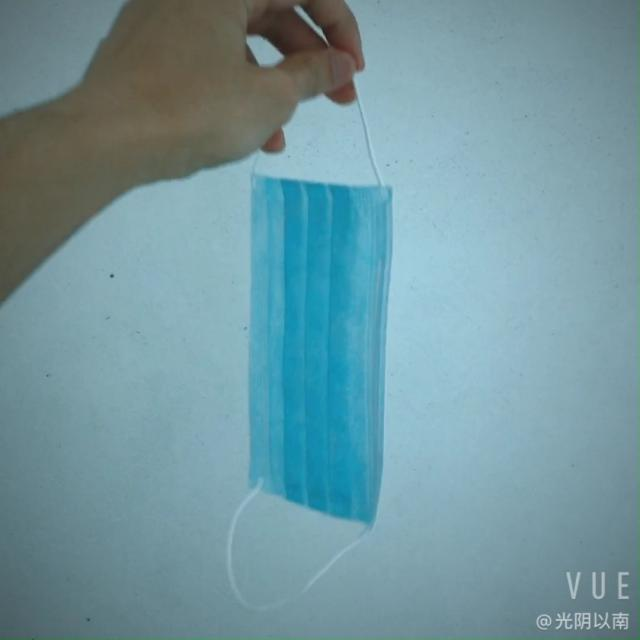non-organic waste: (238, 153, 412, 514)
